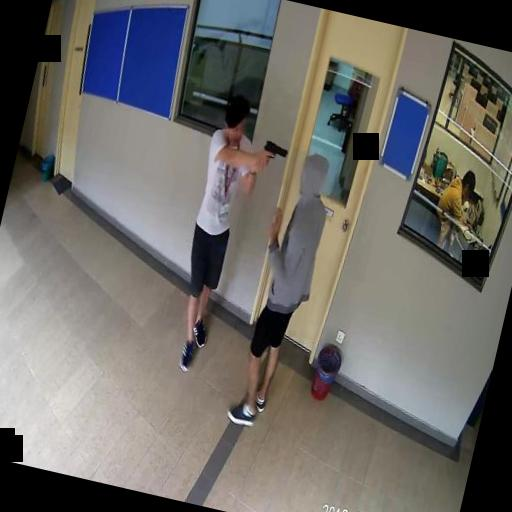Handgun: (258, 138, 288, 173)
